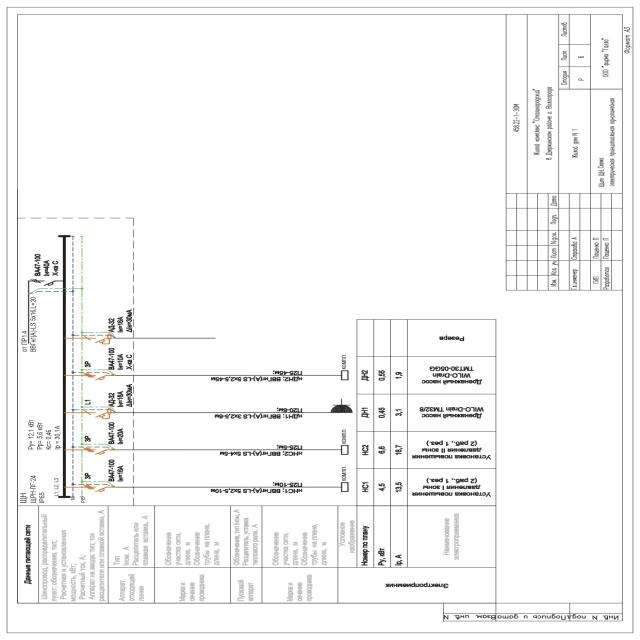-: (82, 347, 134, 371), (84, 458, 124, 483), (84, 421, 124, 445), (31, 253, 60, 277), (108, 384, 134, 408), (108, 308, 133, 332), (29, 474, 45, 504)
QF: (29, 278, 56, 287), (92, 485, 108, 494), (94, 374, 109, 383), (94, 448, 108, 457)
QFD: (83, 332, 112, 346), (83, 407, 112, 420)
